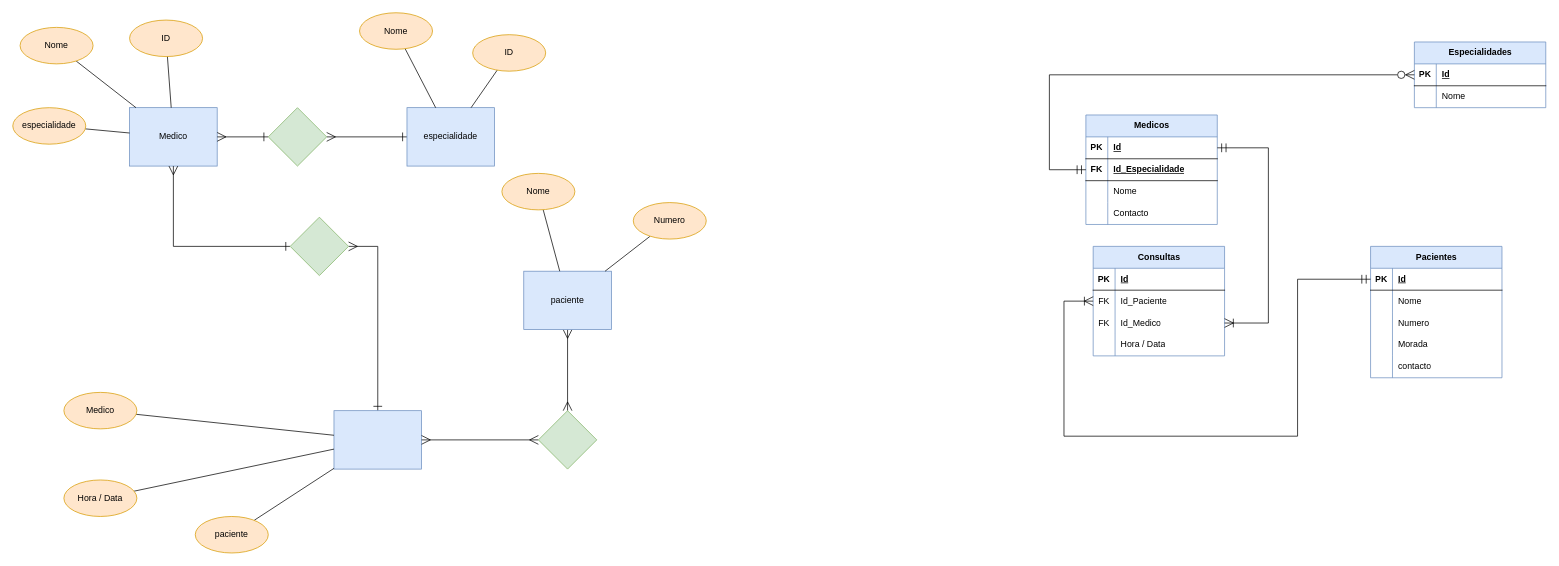
Some shapes in this 1559 by 566 pixel diagram are drawn without their labels. The shapes that lost their labels are listed below. From the top down, each one's centre as x and y in pixels, then its label:
At [297,136]: "tem".
At [319,246]: "Executa".
At [377,439]: "consulta".
At [567,439]: "participam".
